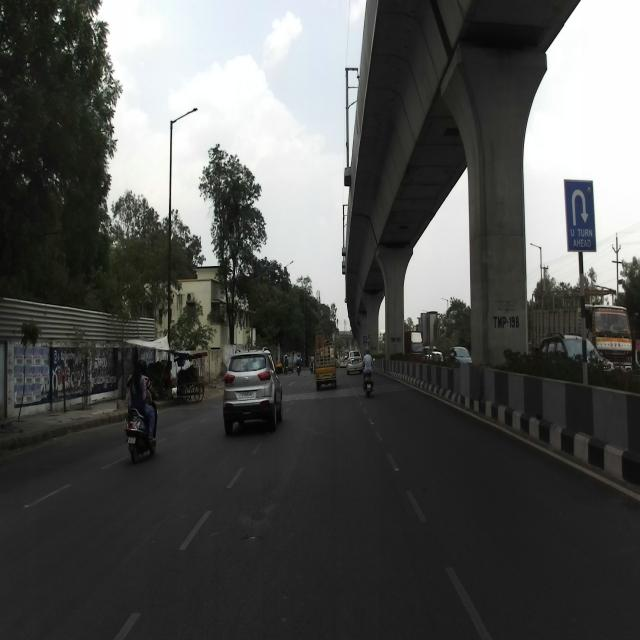Car_Hyundai: (222, 346, 282, 434)
scooter: (123, 389, 158, 463), (362, 357, 374, 395)
truck: (313, 338, 338, 390)
